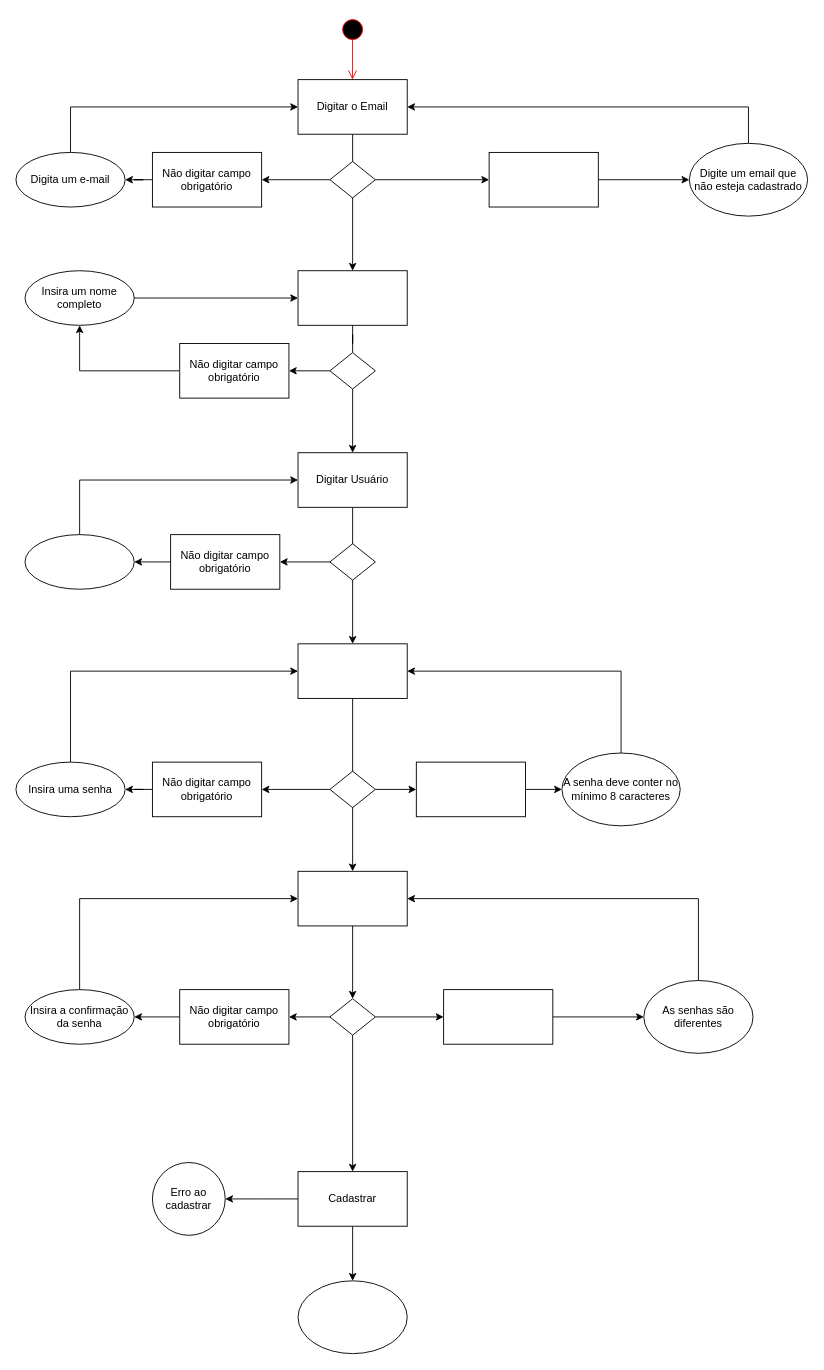
This 824x1370 diagram has some shape labels left out. The shapes that lost their labels are listed below. From the top down, each one's centre as x and y in pixels, then its label:
At (x=543, y=179): "Email já existe".
At (x=352, y=297): "Digite um nome completo".
At (x=79, y=561): "Insira um usuário".
At (x=352, y=670): "Digitar Senha".
At (x=470, y=789): "Digitar menos que 8 caracteres".
At (x=352, y=898): "Confirmar Senha".
At (x=498, y=1016): "Não ser igual a senha".
At (x=352, y=1317): "Tela login".
